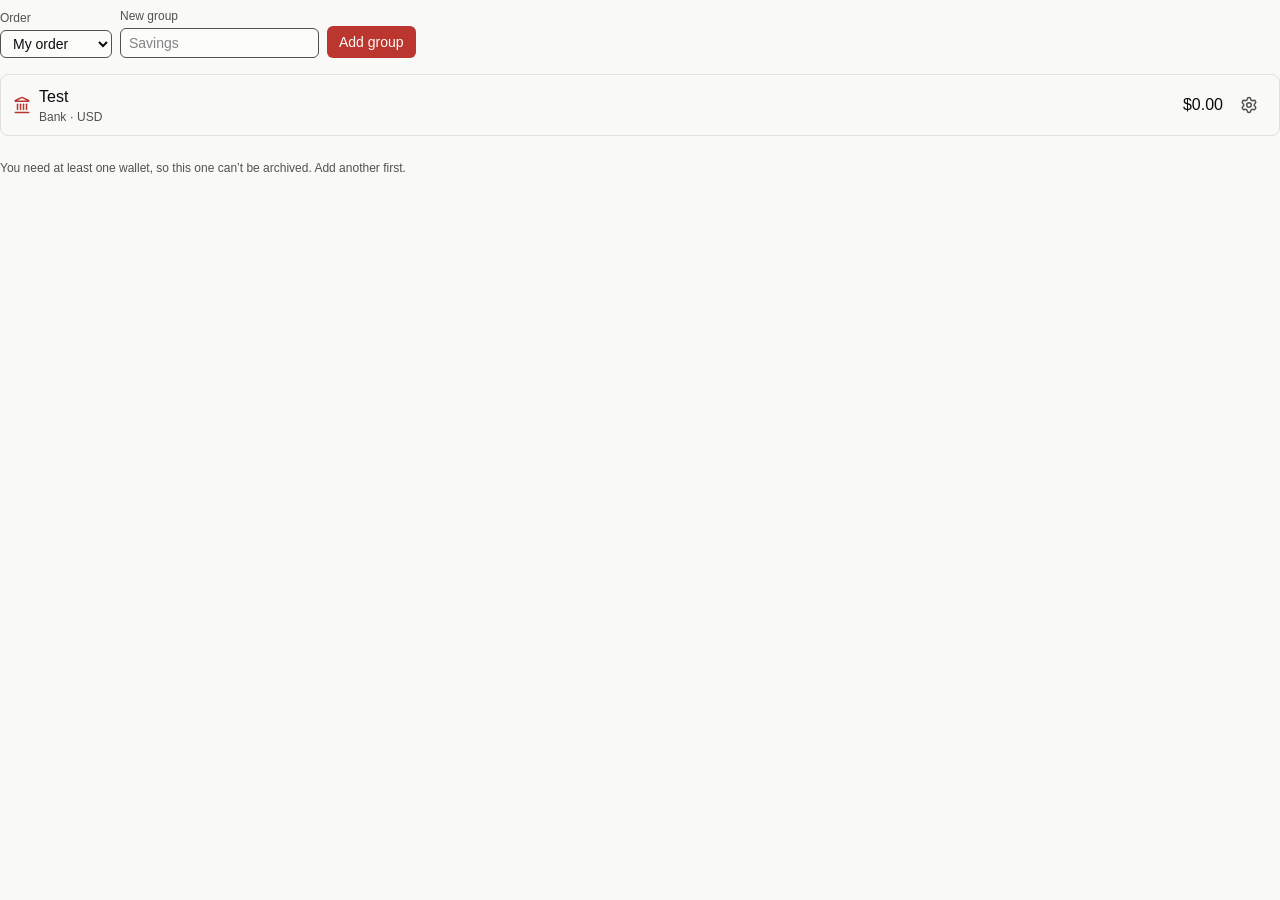
WalletList — members and edit dialogs › closes the edit dialog once the save succeeds
Step 1. Click the button named "Edit Test" → (1249, 105), box [1231, 83, 1267, 127]
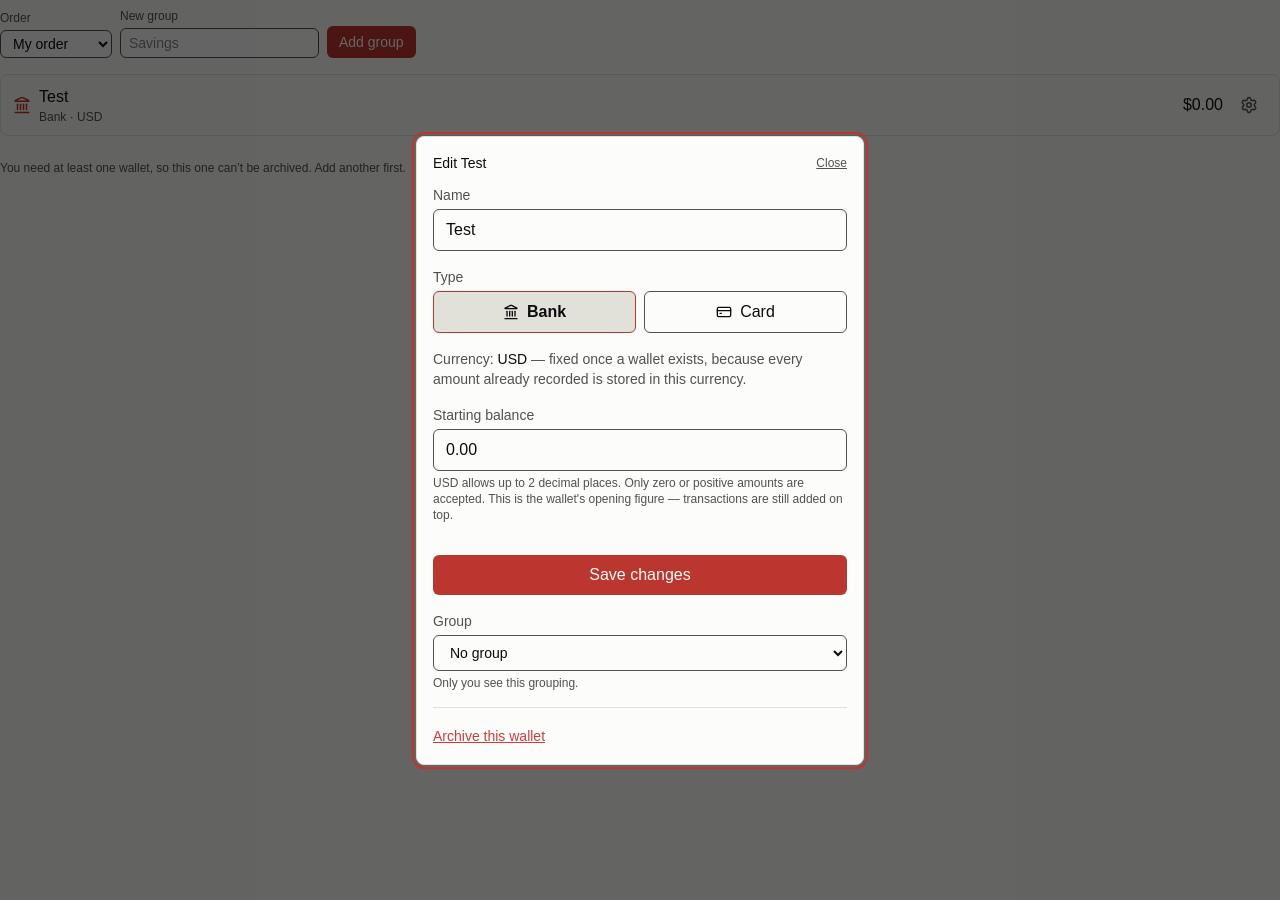
Expected: the dialog "Edit Test" is shown, [416, 136, 864, 764]
Step 2. Click the button "Save changes" → (640, 574), box [433, 554, 847, 594]
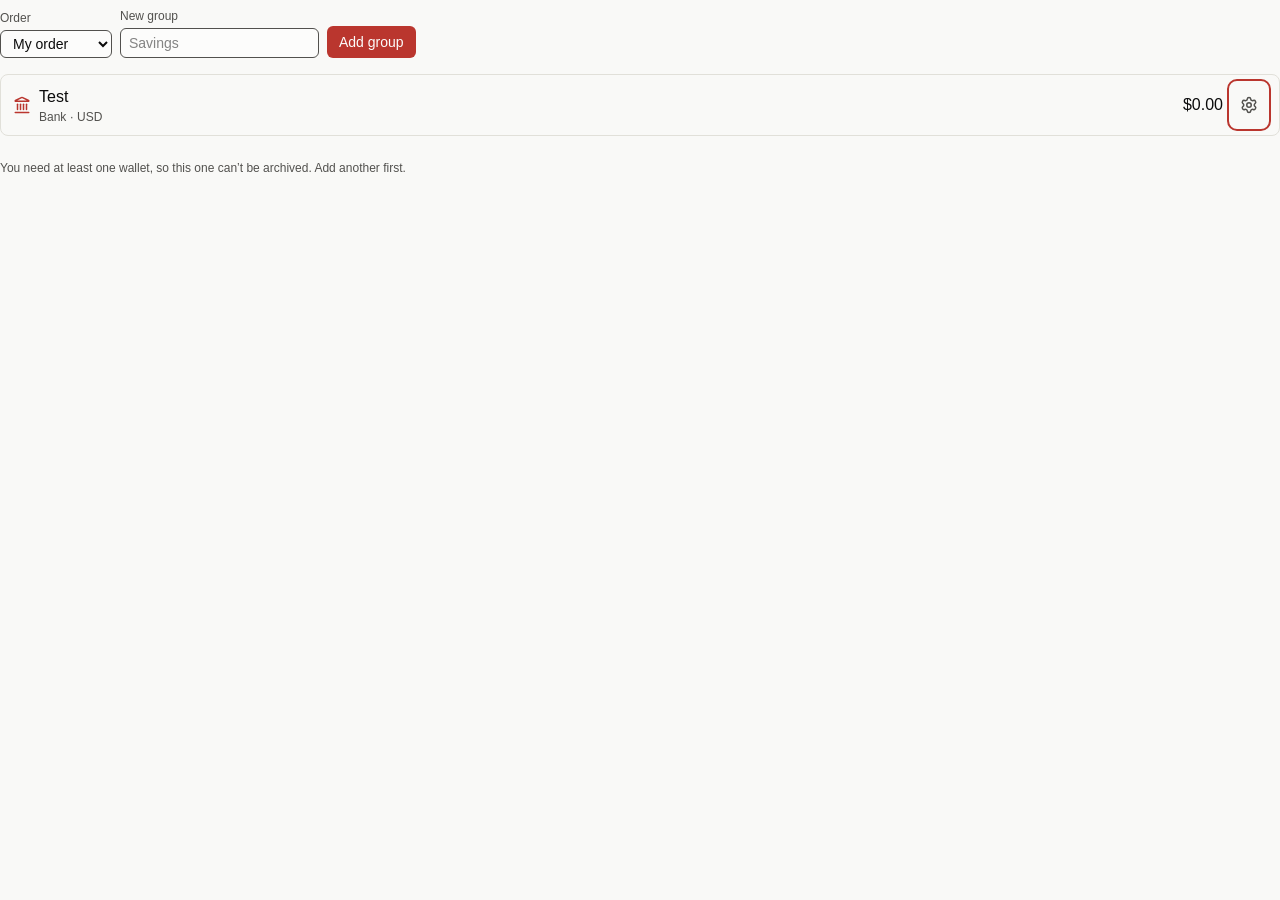
Expected: the dialog is gone
